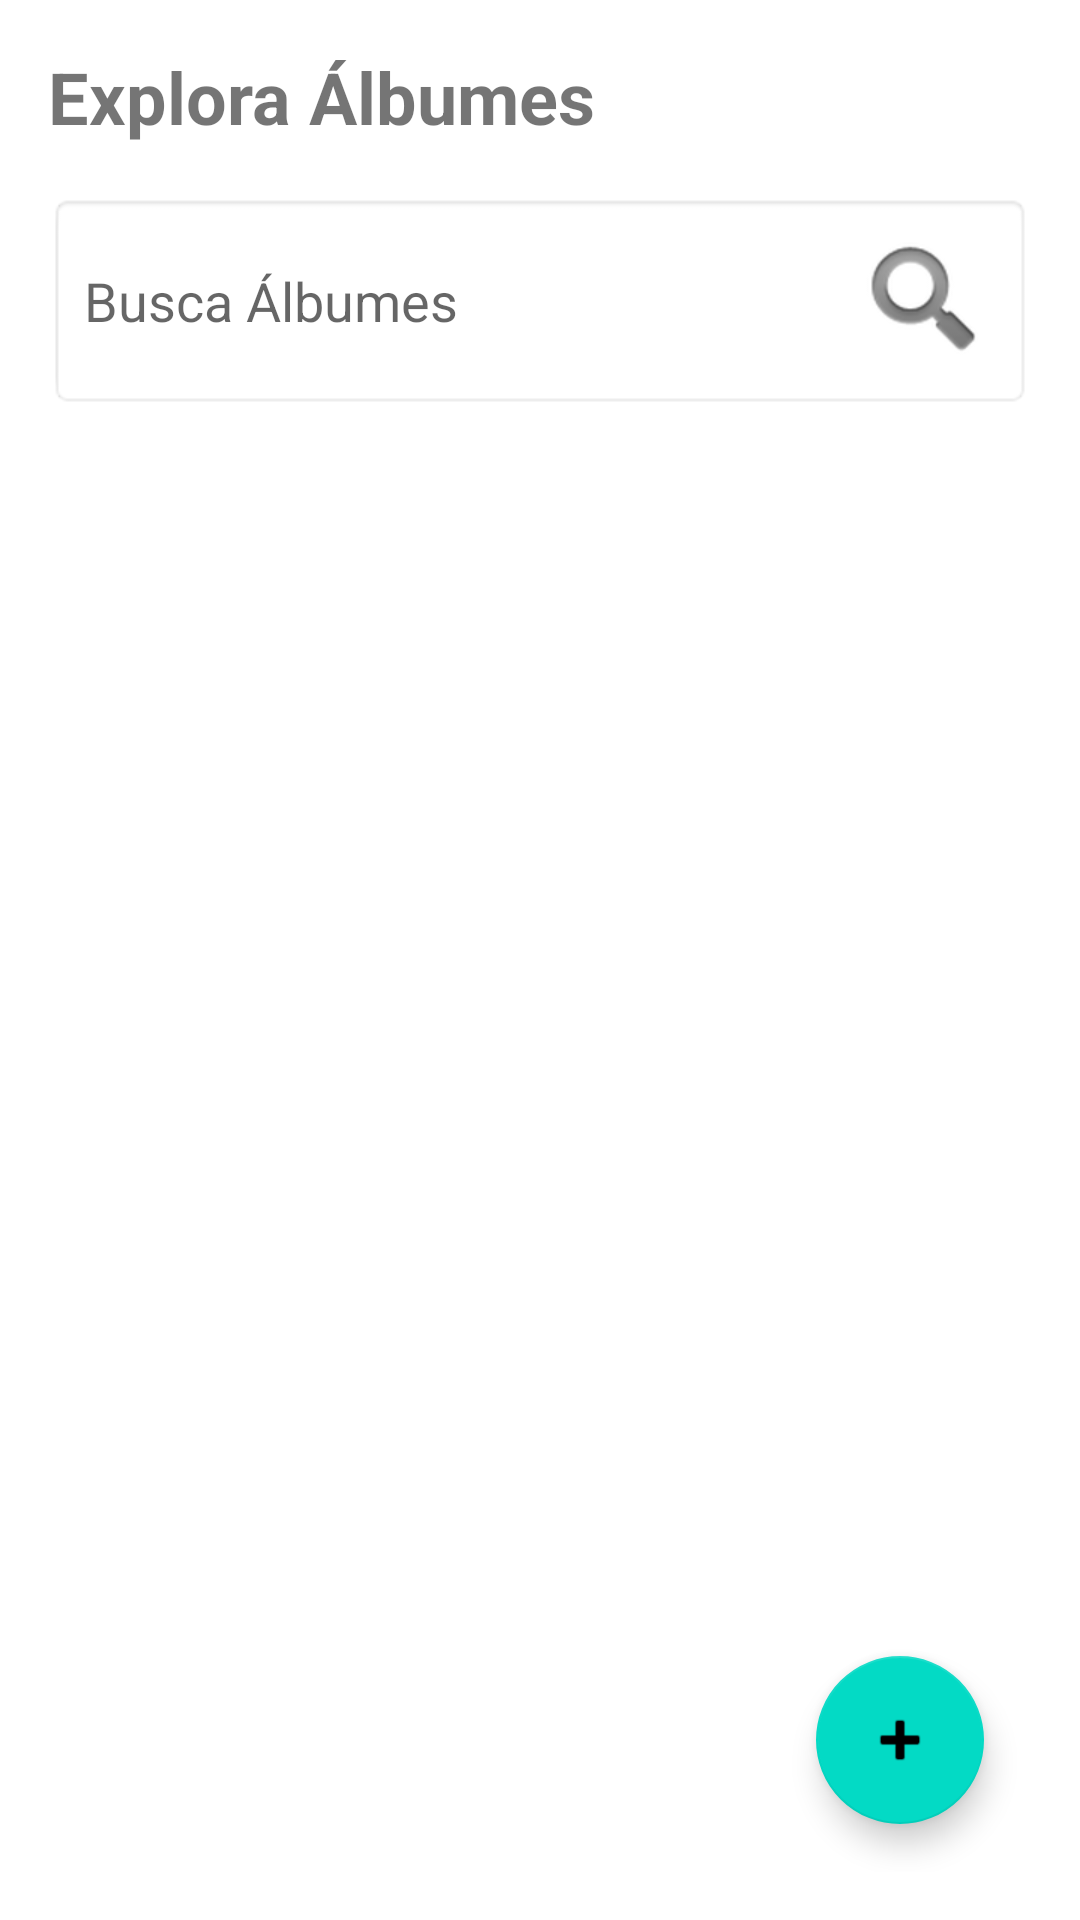

Screen size 1080 x 1920. Icon name, then its box in pixels as (x1, y1, x2, y2):
Add new album: (816, 1656, 984, 1824)
